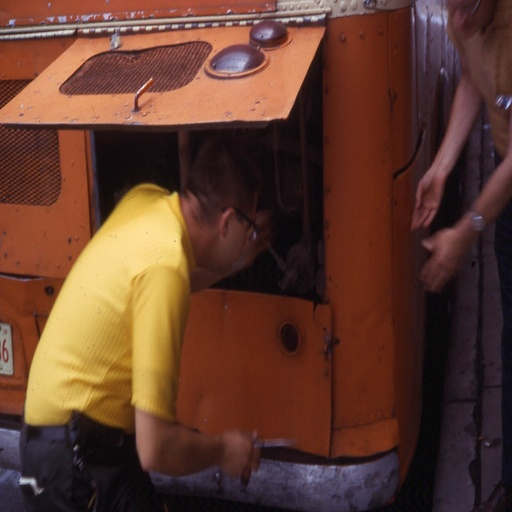hand: (418, 226, 466, 296), (418, 138, 451, 237), (221, 430, 262, 488), (244, 209, 273, 264)
